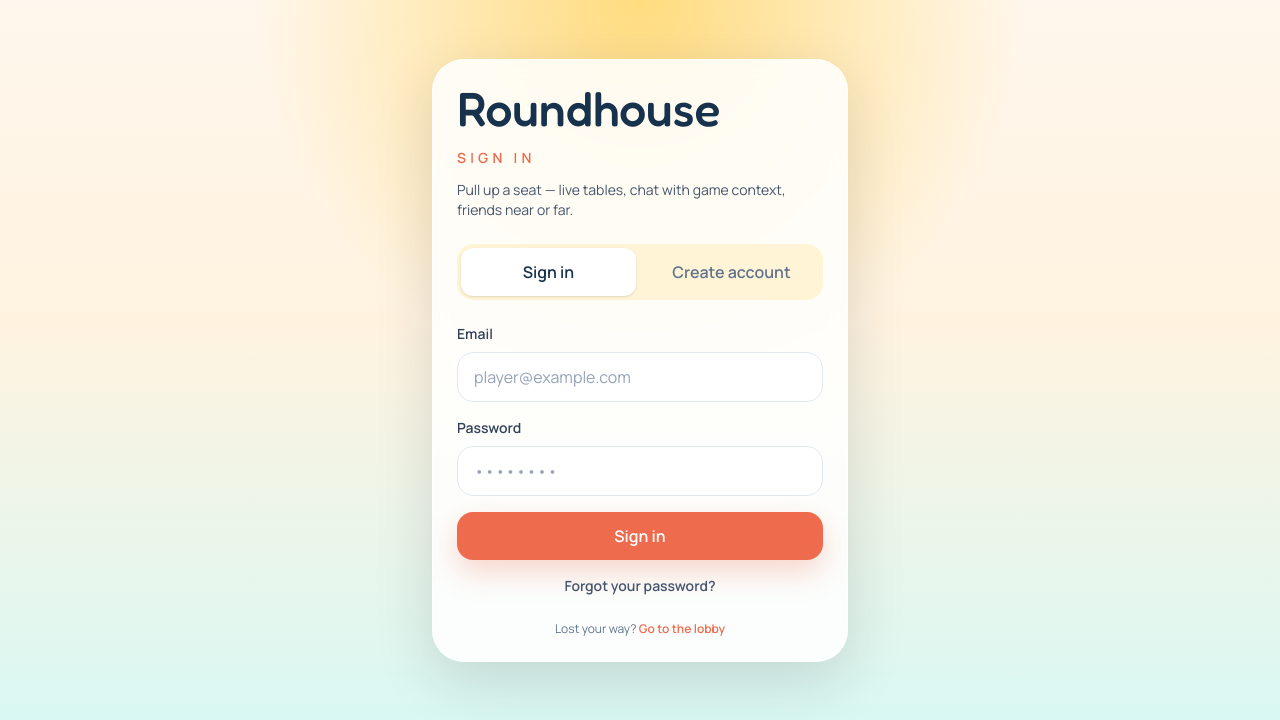
Scenario: LoginPage recovery › sends the player to the check-your-email step after asking for a new account under verification
The width and height of the screenshot is (1280, 720).
Click the button "Create account" at {"x": 732, "y": 272}, box [644,248,819,296]
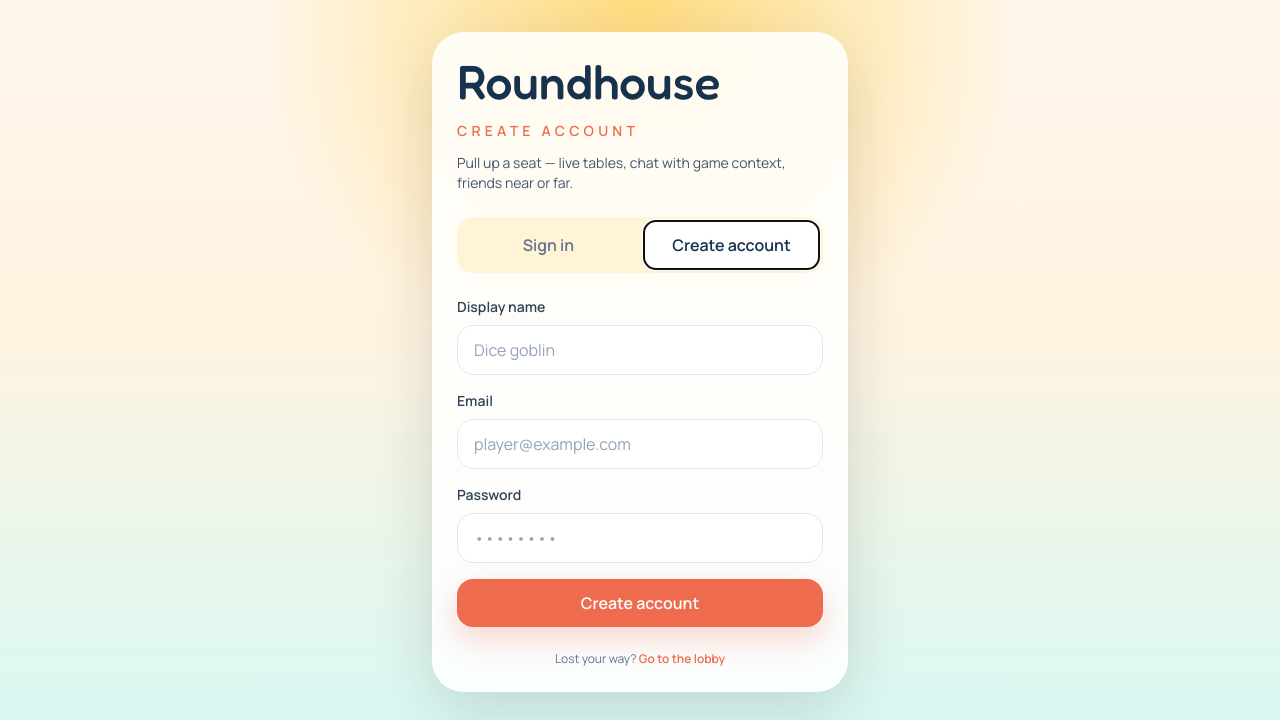
Type "ada@example.com" into the field labelled "Email" at {"x": 640, "y": 444}, box [457,419,823,469]
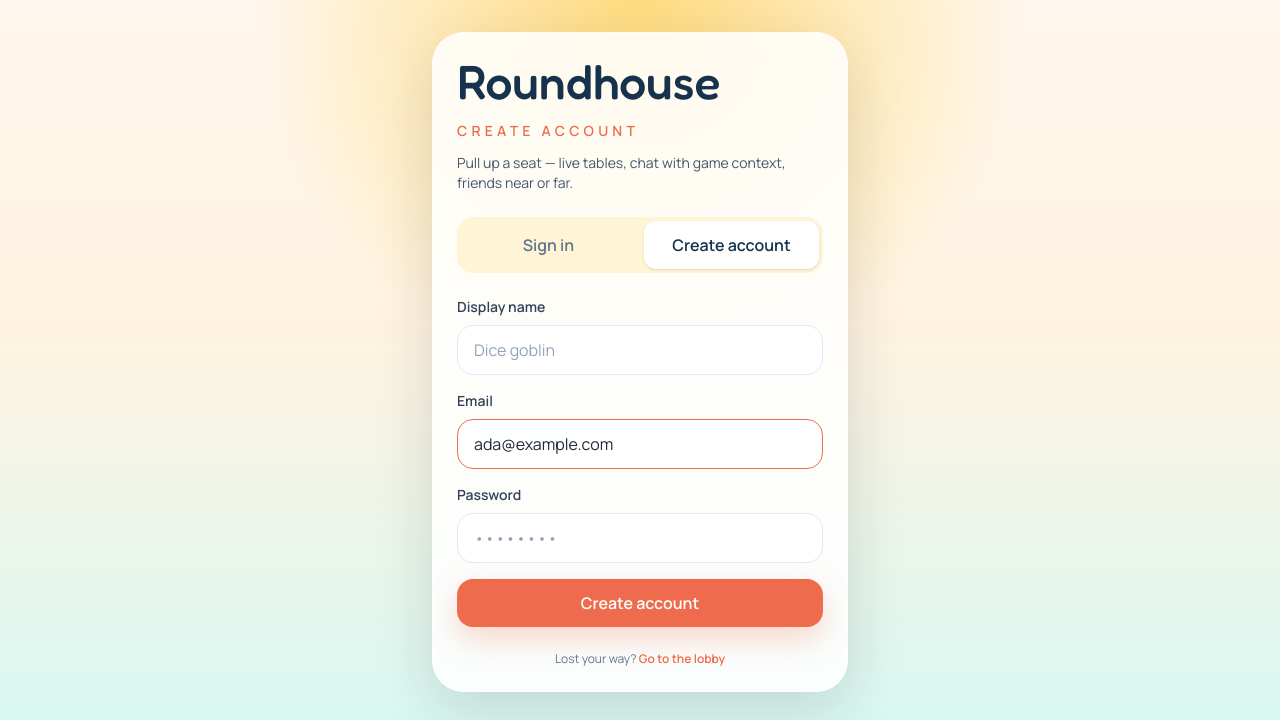
Type "correct horse battery" into the password field labelled "Password" at {"x": 640, "y": 538}, box [457,513,823,563]
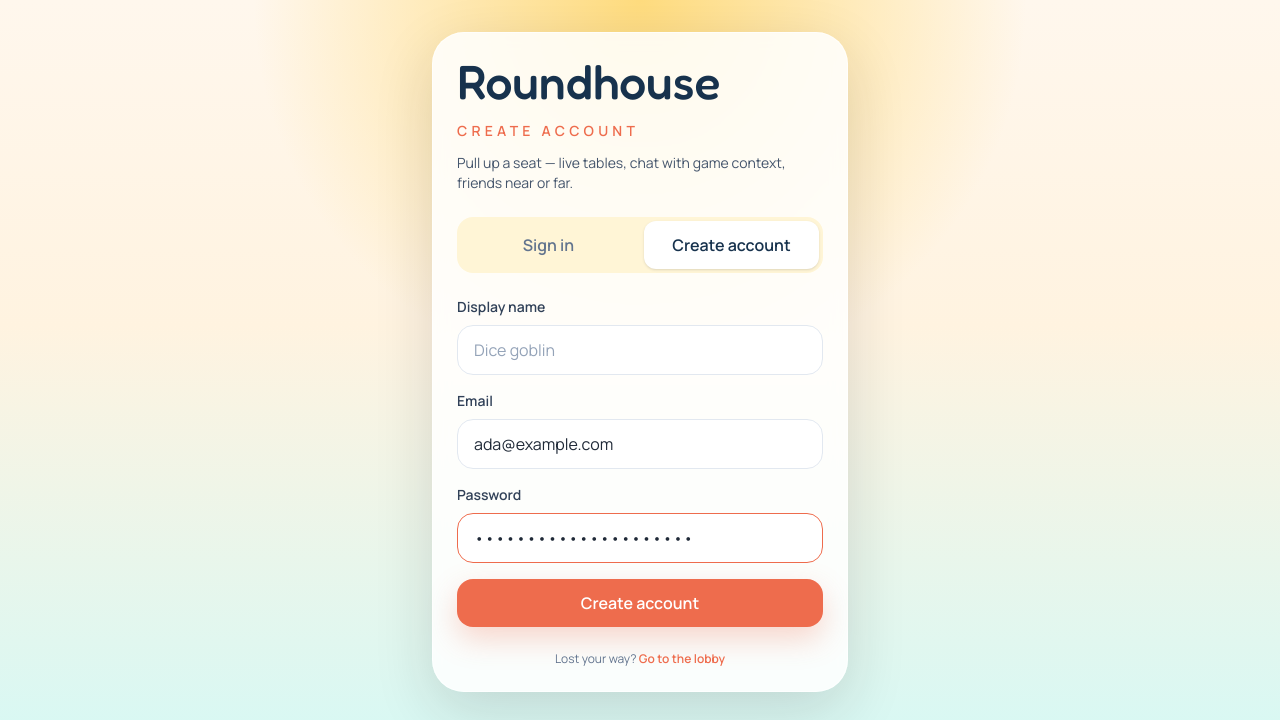
Click the button "Create account" below "Password" at {"x": 640, "y": 603}, box [457,579,823,627]
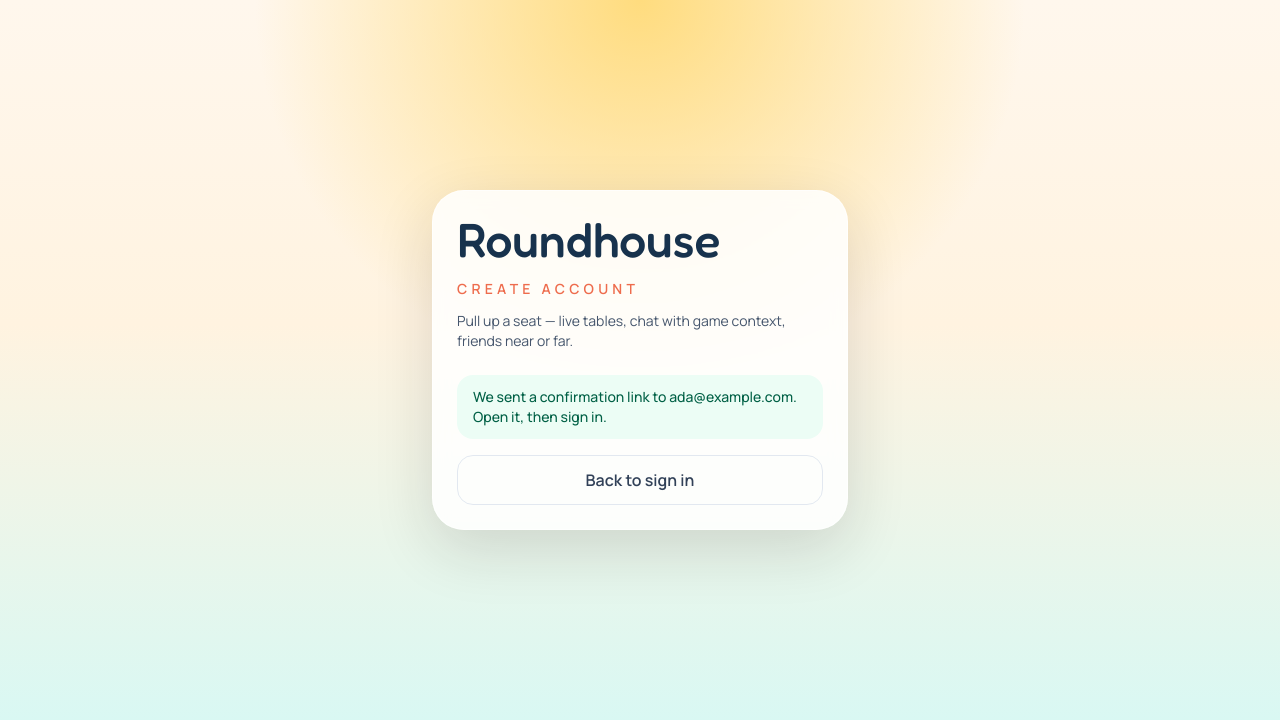
Expected: the text "We sent a confirmation link to ada@example.com. Open it, then sign in." is shown, [457,375,823,439]
